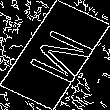M_SE: (15, 23, 95, 87)
